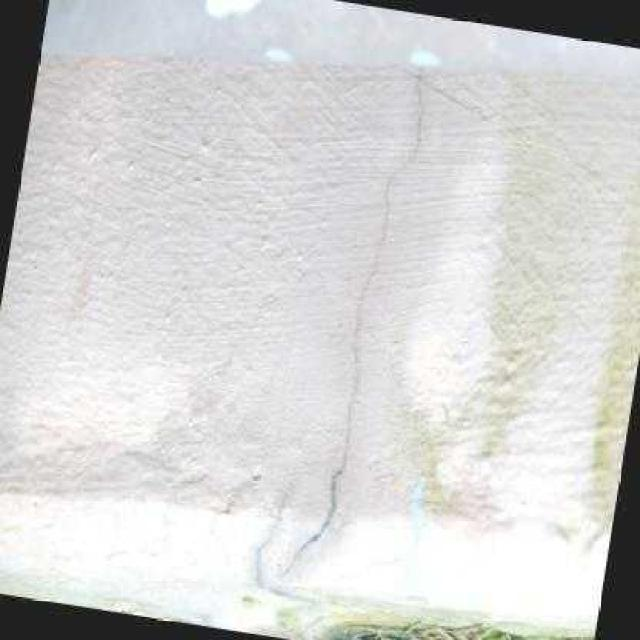D00: (275, 63, 429, 578)
